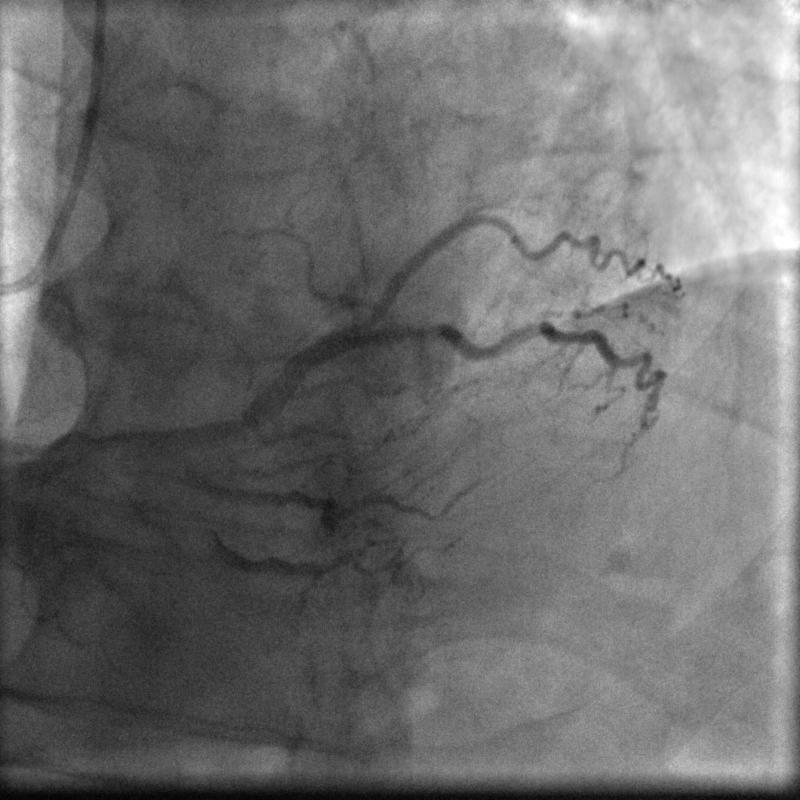Stenosis: (386, 316, 451, 344)
